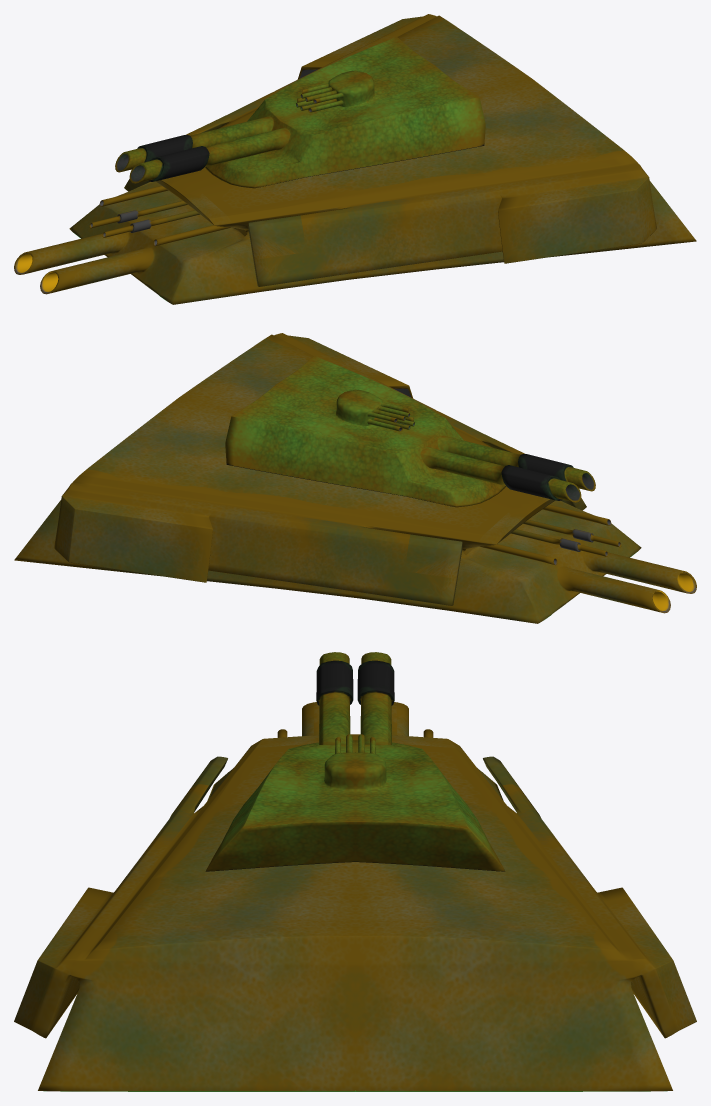
The model's file is BOSSLVL3.fbx.
3 renders of one model, top to bottom at view 1: azimuth 30°, elevation 25°; view 2: azimuth 150°, elevation 25°; view 3: azimuth 270°, elevation 25°, orthographic. The views are drawn at different scales.
Visible parts, largest first — view 1: Cube, Cube.001; view 2: Cube, Cube.001; view 3: Cube, Cube.001.
Boxes of the visible parts, x1=… form: Cube: x1=14, y1=14, x2=696, y2=304; Cube.001: x1=115, y1=37, x2=485, y2=188; Cube: x1=14, y1=333, x2=696, y2=623; Cube.001: x1=225, y1=356, x2=595, y2=507; Cube: x1=14, y1=702, x2=696, y2=1091; Cube.001: x1=205, y1=652, x2=505, y2=871.
Size of the model in its own units: 3180 by 736 by 2506.
Materials: 2 (2 with a texture image).
